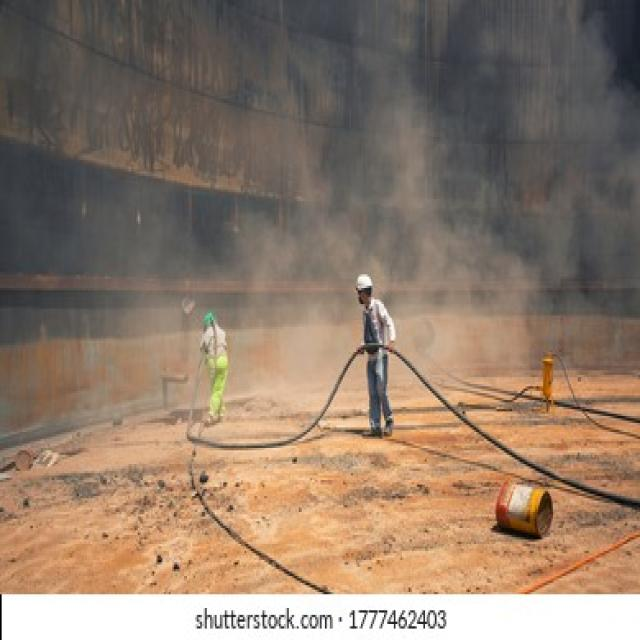corrosion: (0, 0, 640, 437)
